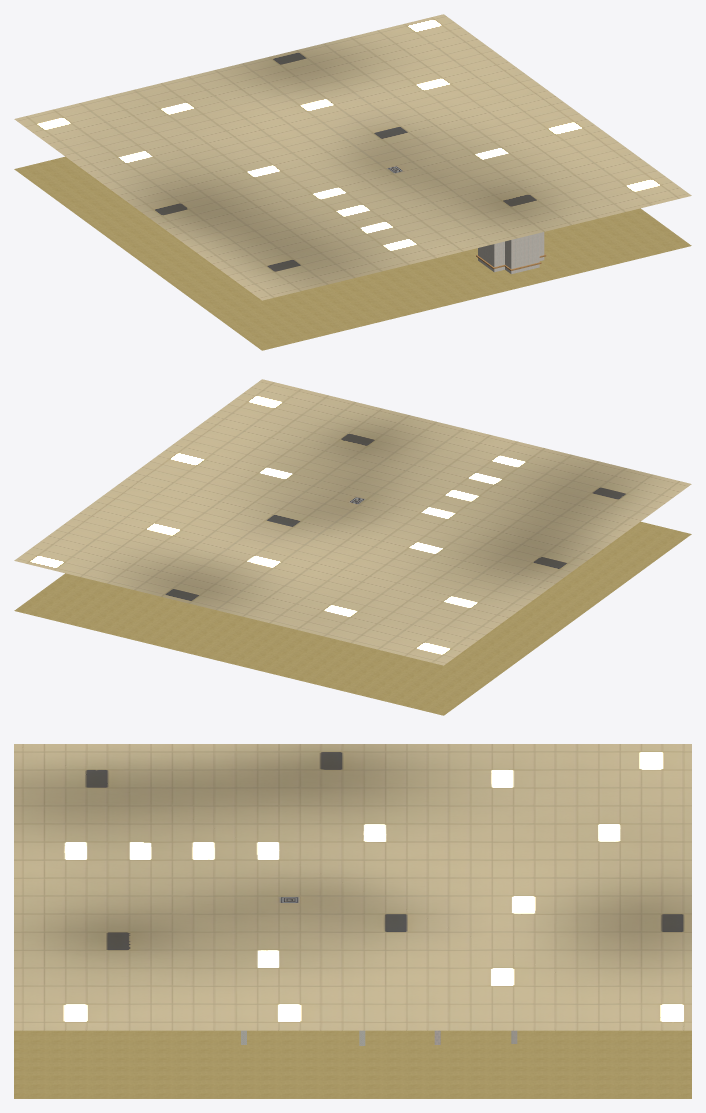
Rendered from backrooms_pack.glb.
3 renders of one model, top to bottom at view 1: azimuth 30°, elevation 25°; view 2: azimuth 150°, elevation 25°; view 3: azimuth 270°, elevation 25°, orthographic. The views are drawn at different scales.
Parts seen in each view (by area): view 1: Plane.001_26, Plane_0, Cube.027_21, Cube.026_22; view 2: Plane.001_26, Plane_0; view 3: Plane.001_26, Plane_0.
Part boxes in pixels (bbox=[...]): Plane.001_26: bbox=[14, 14, 691, 300]; Plane_0: bbox=[14, 156, 691, 350]; Cube.027_21: bbox=[504, 233, 541, 274]; Cube.026_22: bbox=[476, 232, 546, 272]; Plane.001_26: bbox=[14, 379, 691, 665]; Plane_0: bbox=[14, 521, 691, 715]; Plane.001_26: bbox=[14, 744, 691, 1030]; Plane_0: bbox=[14, 1030, 691, 1098].
Size of the model in its own units: 101 by 11.2 by 101.
6 materials, 6 textured.
